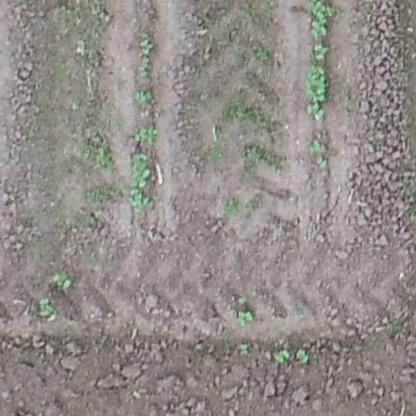vc: (304, 65, 329, 120), (308, 2, 340, 38), (130, 151, 153, 187), (139, 33, 153, 75), (312, 42, 336, 61), (52, 271, 76, 289), (130, 193, 152, 212), (36, 295, 55, 316), (236, 307, 256, 324), (273, 347, 291, 363), (296, 347, 311, 365), (135, 89, 155, 102), (306, 135, 322, 151), (237, 341, 253, 355), (317, 156, 328, 168)
